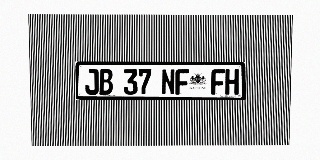3: (124, 69, 137, 95)
7: (138, 69, 151, 95)
B: (99, 69, 113, 95)
F: (175, 69, 189, 95), (211, 69, 225, 95)
H: (225, 69, 239, 95)
J: (85, 69, 99, 95)
N: (161, 69, 175, 95)
